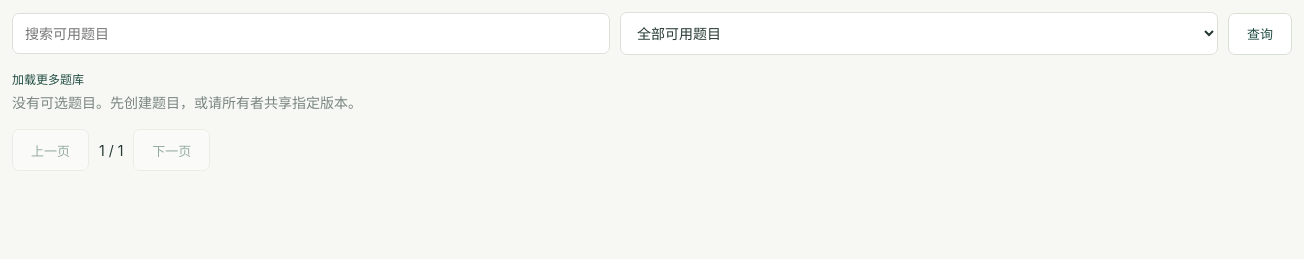
Test: 第二阶段五项审阅修复 › 题库第二页失败可重试，保留已加载列表且不跳页
Step 1. Click the button "加载更多题库" → (48, 78), box [12, 67, 84, 90]
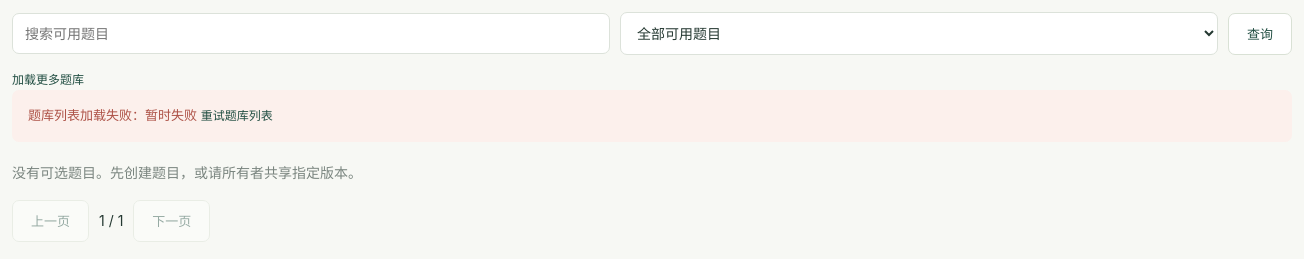
Expected: the text "题库列表加载失败" is shown, [28, 107, 201, 123]
Step 2. Click the button "重试题库列表" → (237, 116), box [201, 103, 273, 129]
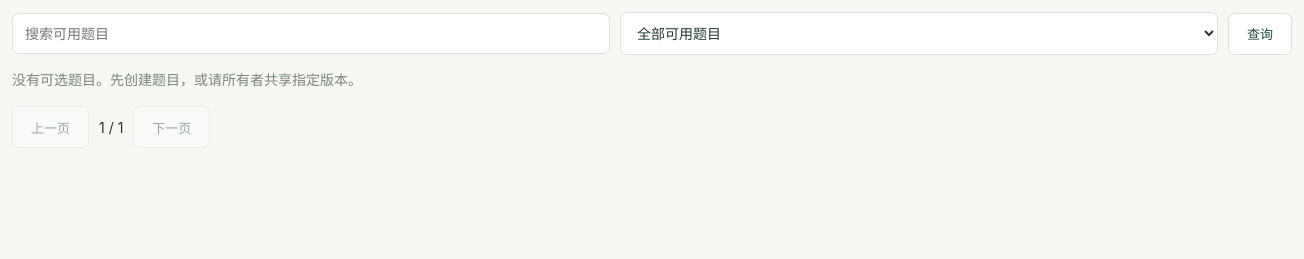
Expected: the text "暂时失败" is gone
